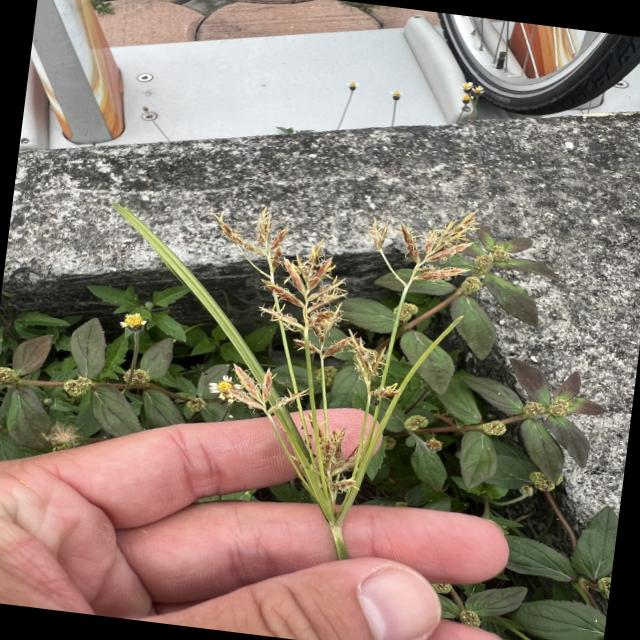cyperus: (178, 176, 496, 538), (193, 194, 369, 362), (203, 358, 370, 503), (364, 192, 491, 320)
